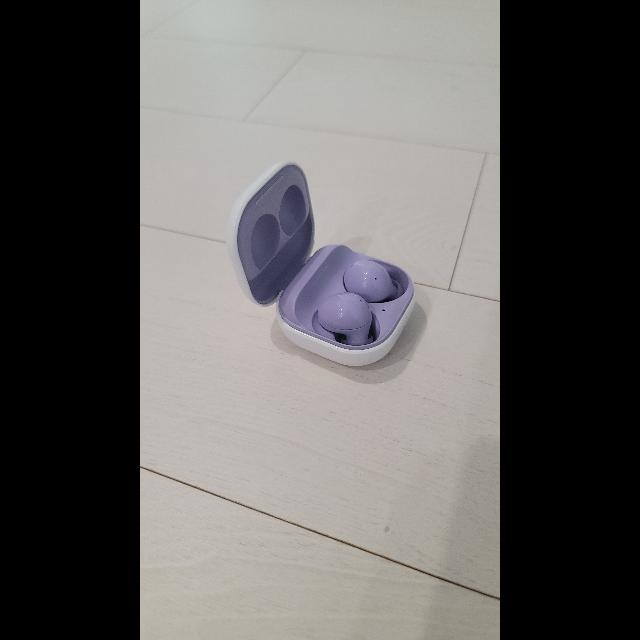GALAXY-BUDS-2: (228, 162, 415, 365)
